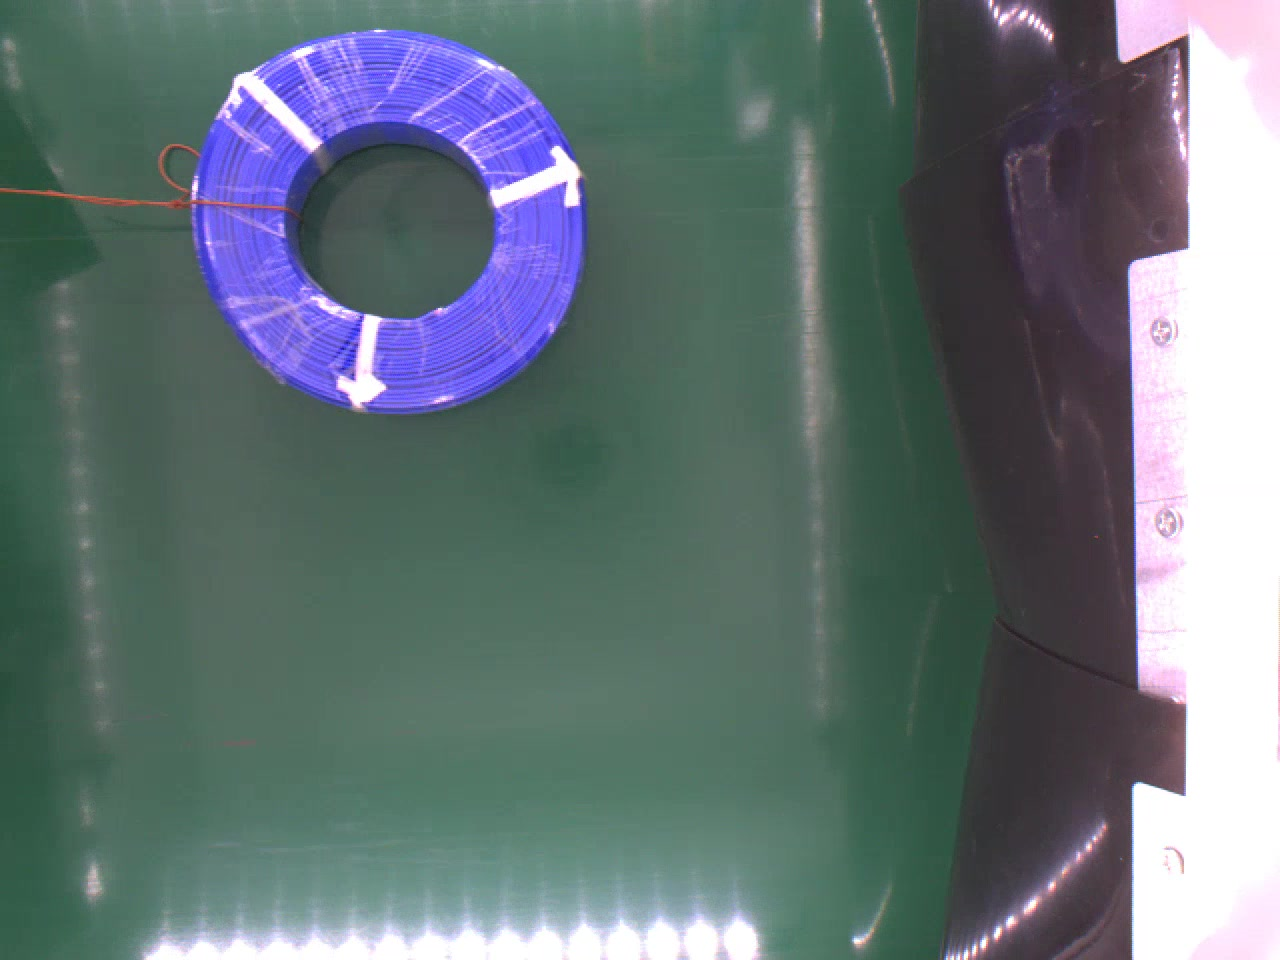blue: (188, 23, 587, 417)
